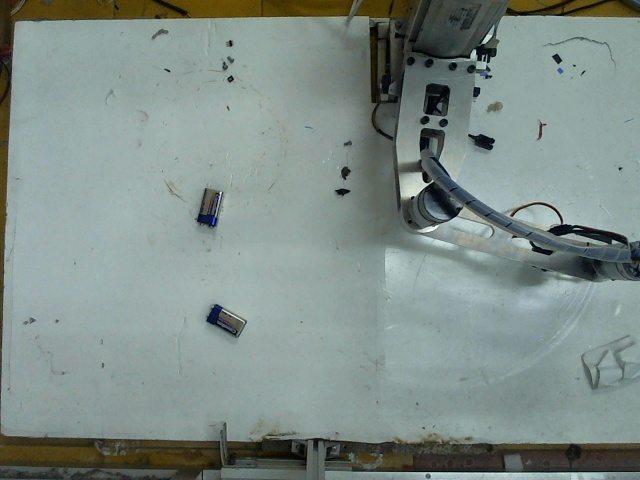battery: (202, 301, 250, 344), (192, 184, 224, 224)
